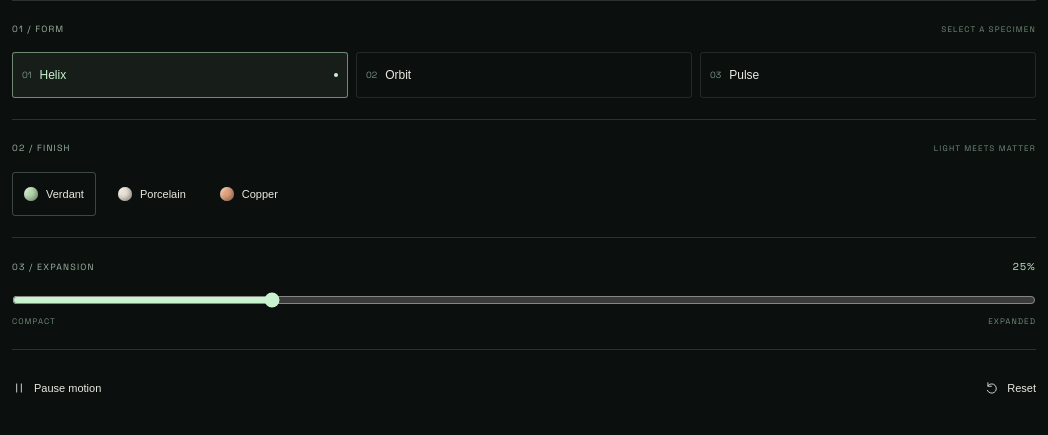
accessible sculpture controls › updates the finish and expansion and restores them with Reset
Click the button "Copper": (249, 194) [208,172,290,216]
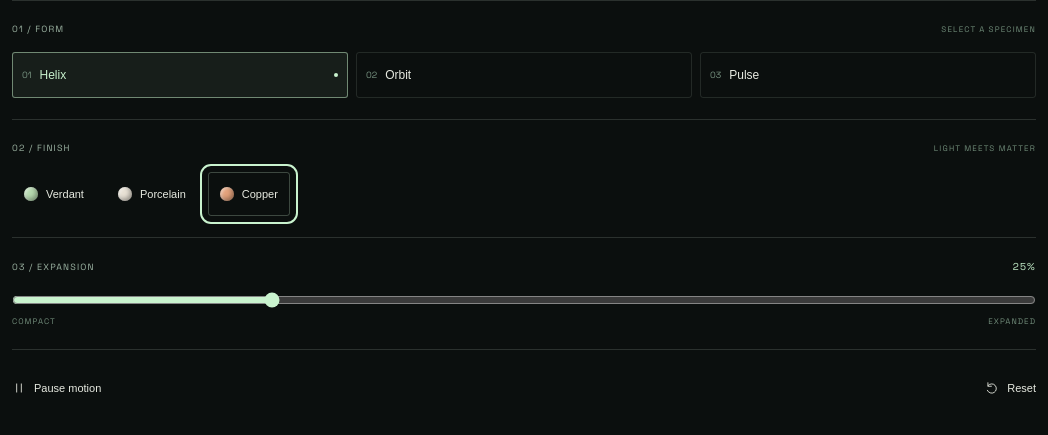
Set the slider labelled "03 / EXPANSION" to "80": (826, 300) [12,291,1036,309]
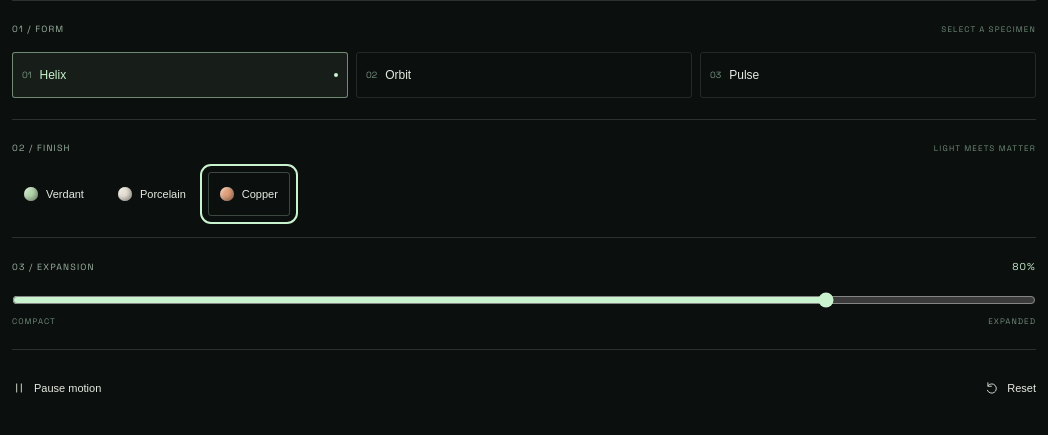
Check: the text "80%" is shown, box [1012,259,1036,275]
Click the button "Reset": (1011, 388) [985,366,1036,410]
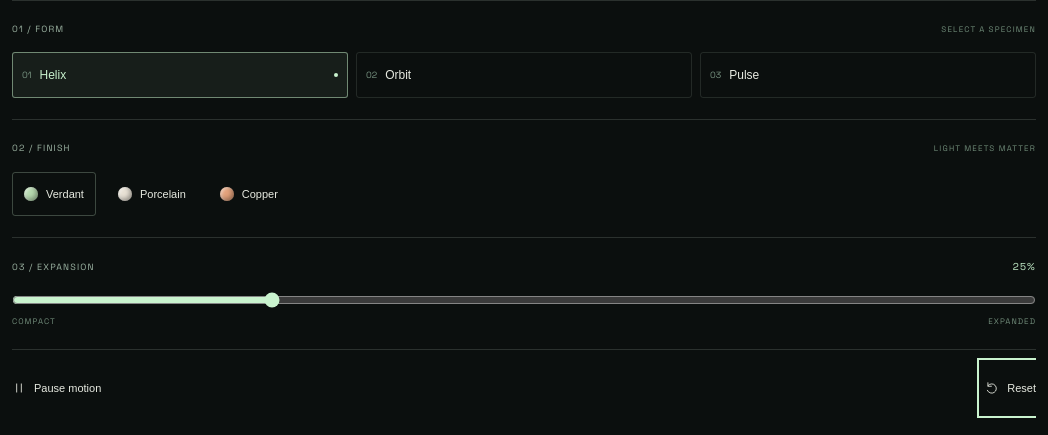
Check: the text "25%" is shown, box [1013,259,1036,275]
